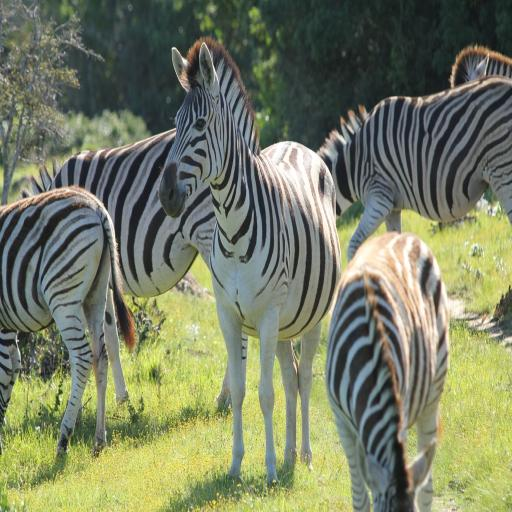Zebra: (0, 36, 512, 512), (314, 46, 512, 261), (325, 229, 451, 512)
